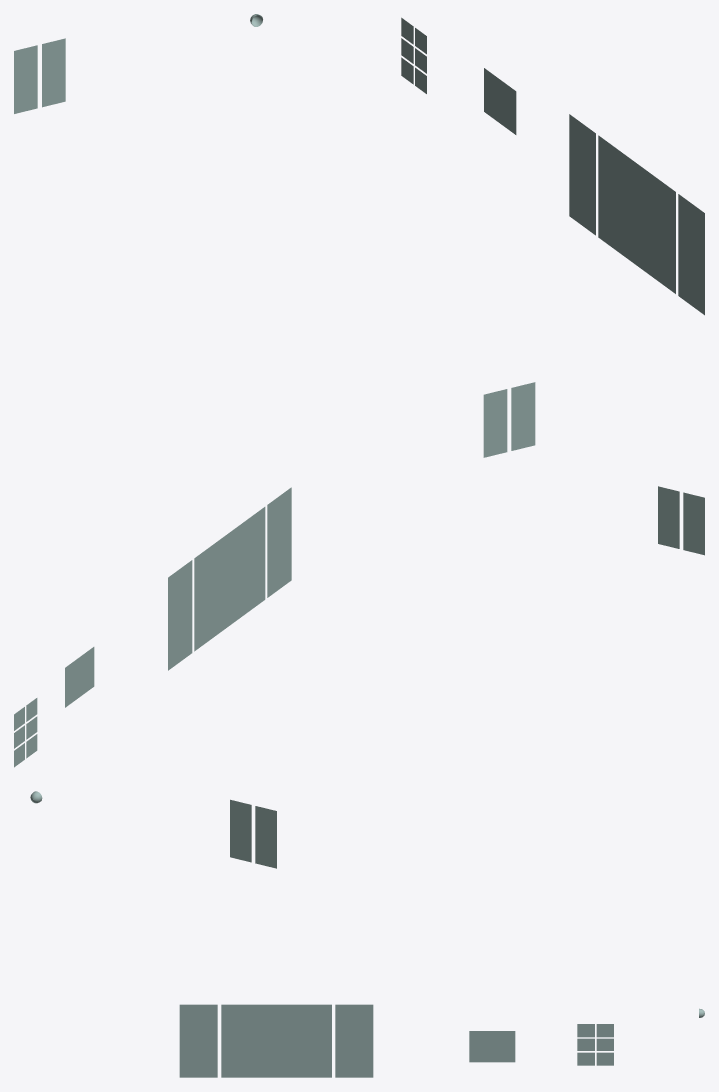
Rendered from SM_Town_Sheriff_Glass.glb.
3 renders of one model, top to bottom at view 1: azimuth 30°, elevation 25°; view 2: azimuth 150°, elevation 25°; view 3: azimuth 270°, elevation 25°, orthographic. The views are drawn at different scales.
Parts seen in each view (by area): view 1: SM_Town_Sheriff_Glass; view 2: SM_Town_Sheriff_Glass; view 3: SM_Town_Sheriff_Glass.
Part boxes in pixels (bbox=[...]): SM_Town_Sheriff_Glass: bbox=[14, 14, 704, 457]; SM_Town_Sheriff_Glass: bbox=[14, 486, 704, 868]; SM_Town_Sheriff_Glass: bbox=[179, 1004, 704, 1077].
Size of the model in its own units: 5.18 by 1.44 by 12.34.
